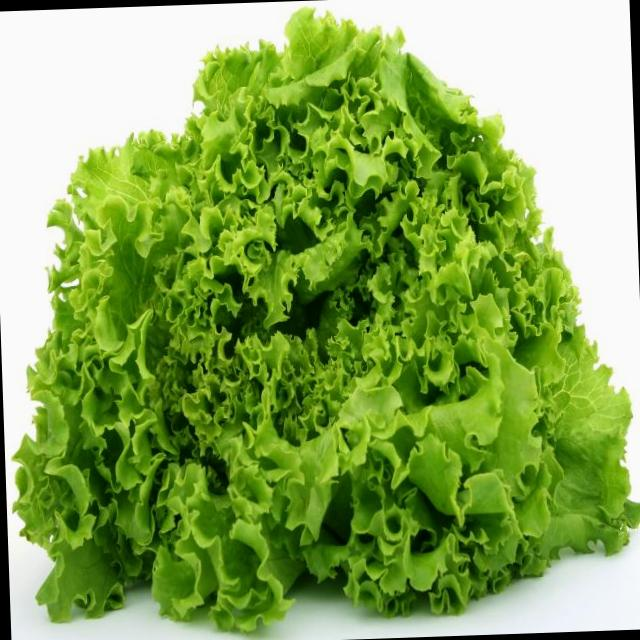Lettuce-Ready-to-Harvest: (15, 9, 640, 629)
